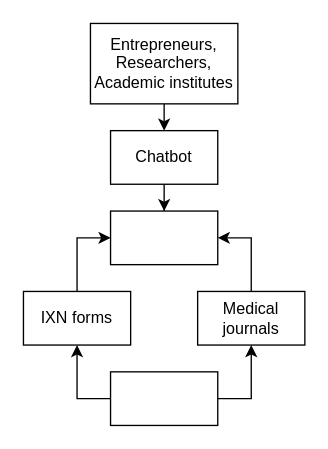
This 328x449 diagram has some shape labels left out. The shapes that lost their labels are listed below. From the top down, each one's centre as x and y in pixels, then its label:
At point (163, 237): "SQL database".
At point (163, 398): "National databases".
